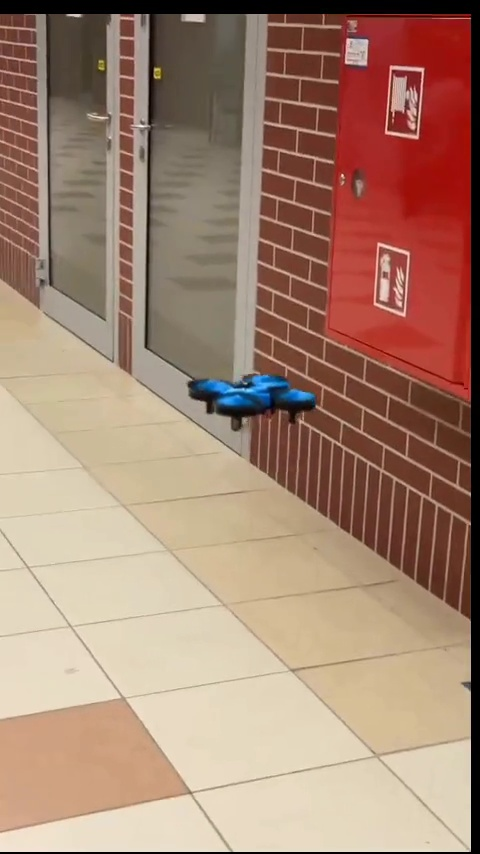drone: (192, 374, 314, 422)
